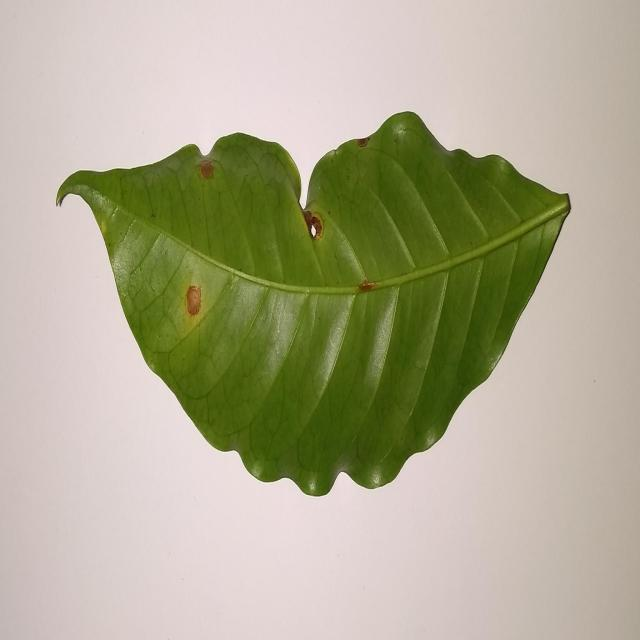Enfermedad-Mancha-de-hierro: (53, 111, 572, 499)
